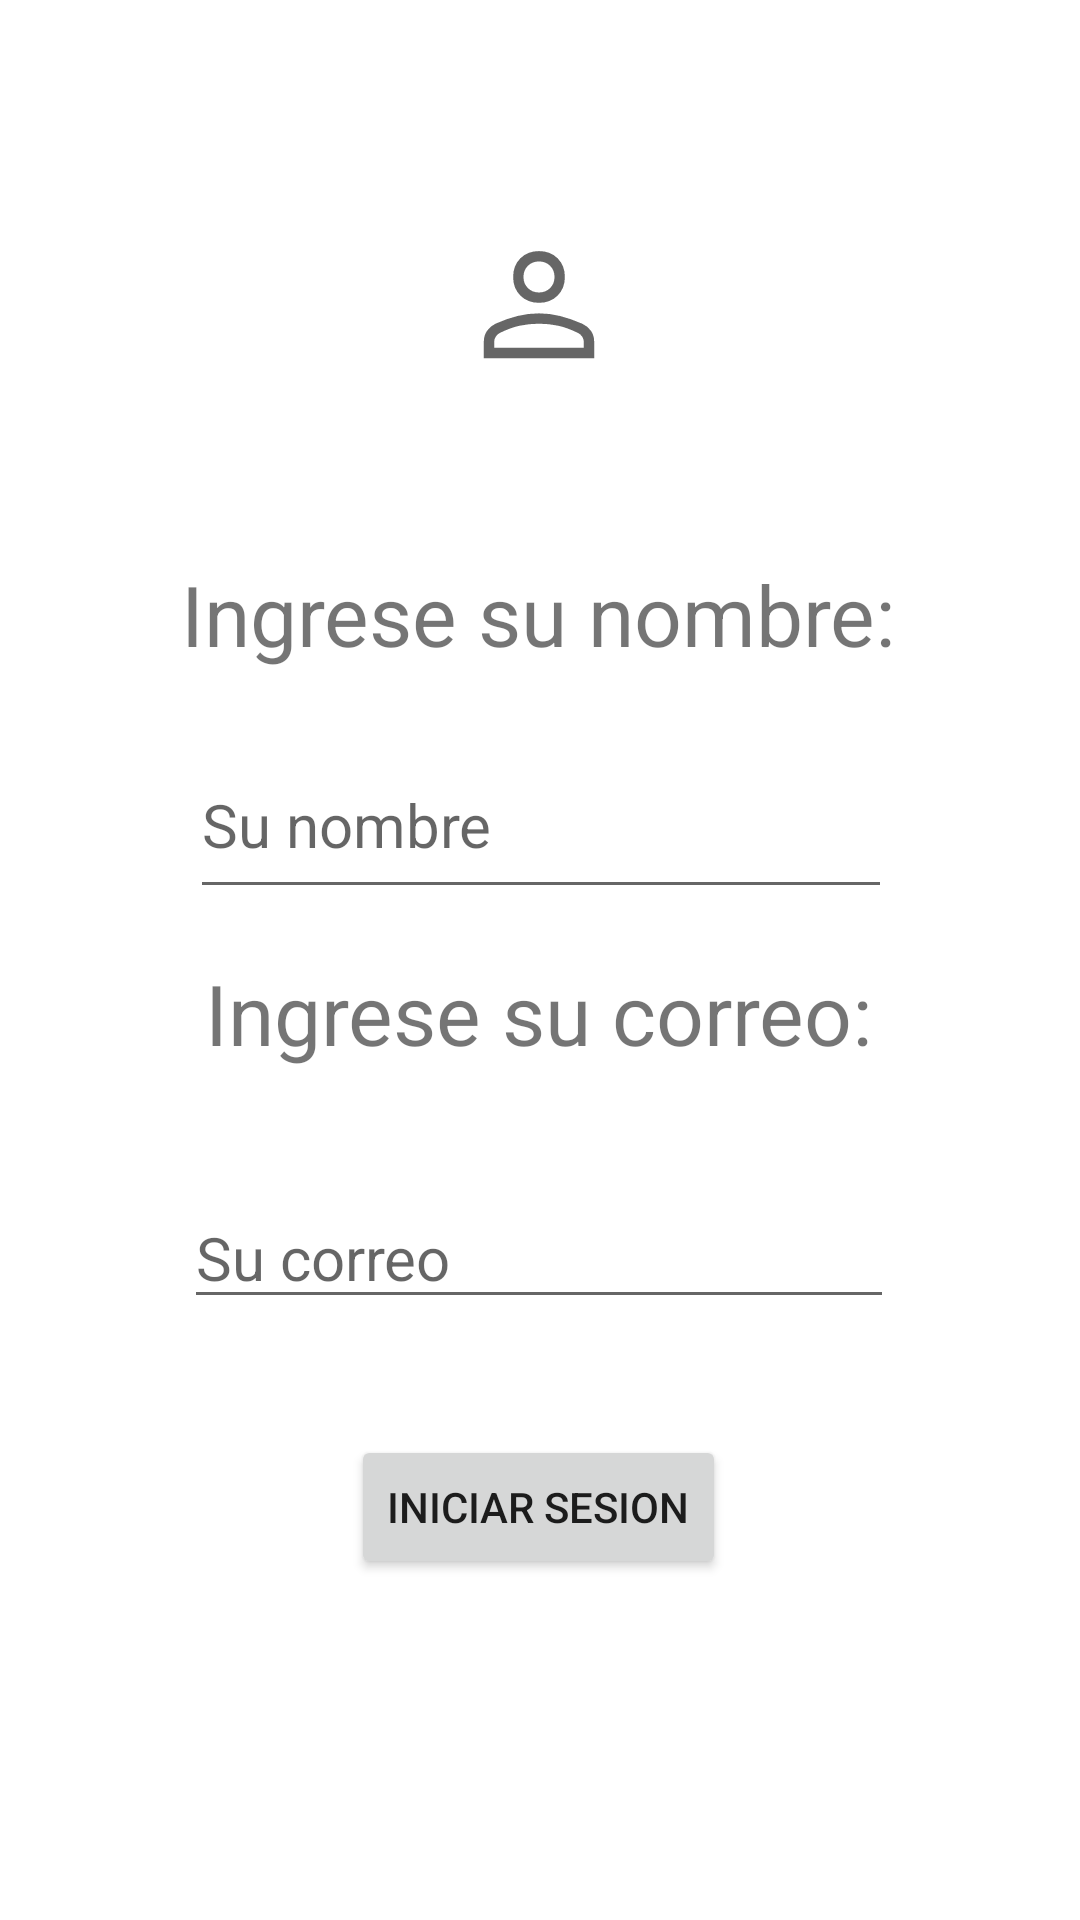

Icon bounding boxes for this 1080 x 1920 phone screenshot, format (x1, y1, x2, y2):
Usuario: (483, 251, 595, 359)
